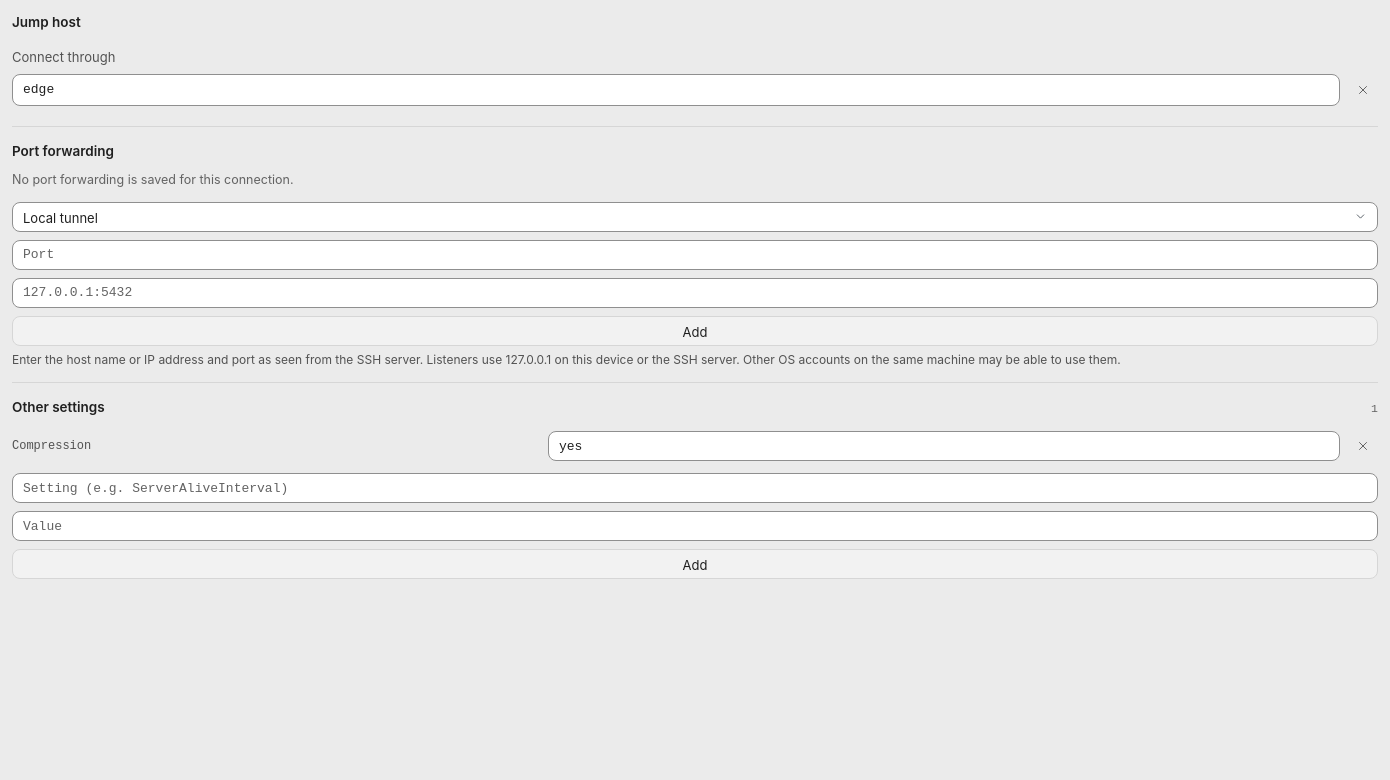
Test case: AdvancedSettings › hides the fixed destination for a Dynamic SOCKS proxy
expect the text "Enter the host name or IP address and port as seen from the SSH server." is shown: met, box [12,352,423,367]
Select "SOCKS proxy" in the dropdown named "Type" at [695, 217], box [12,202,1378,232]
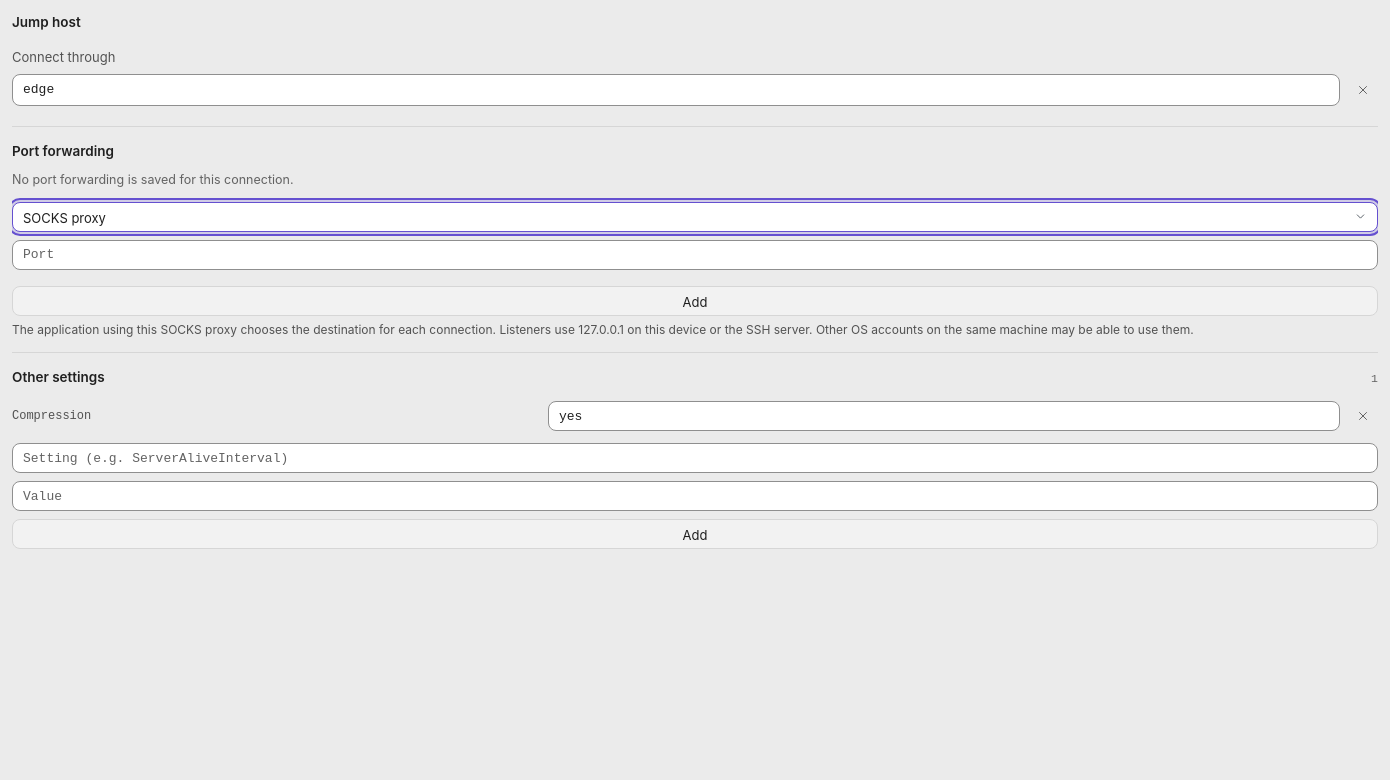
expect the text "The application using this SOCKS proxy chooses the destination for each connection." is shown: met, box [12,322,496,337]
